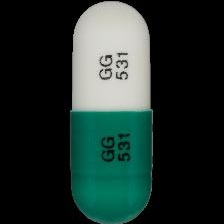76237-250: (0, 0, 224, 224)
